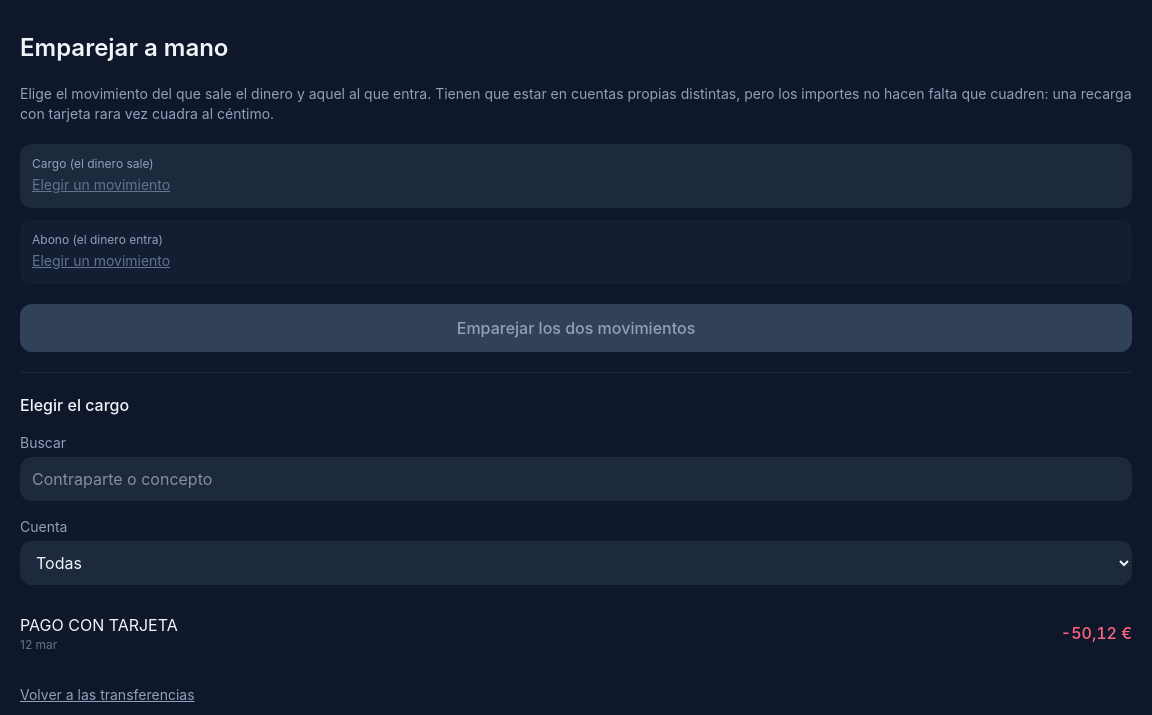
Test: PairTransferScreen › traduce el conflicto de la API en lugar de enseñar su texto a secas
The image size is (1152, 715).
Click the text "PAGO CON TARJETA": (99, 625) [20, 615, 178, 635]
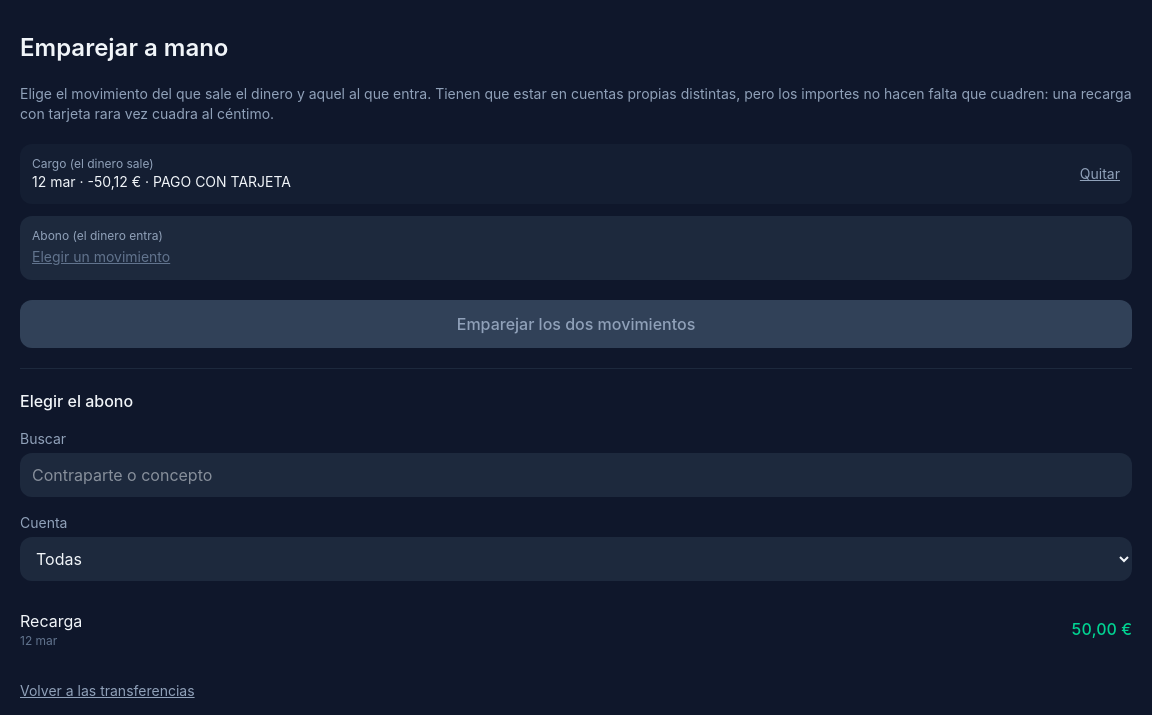
Click the text "Recarga": (51, 621) [20, 611, 82, 631]
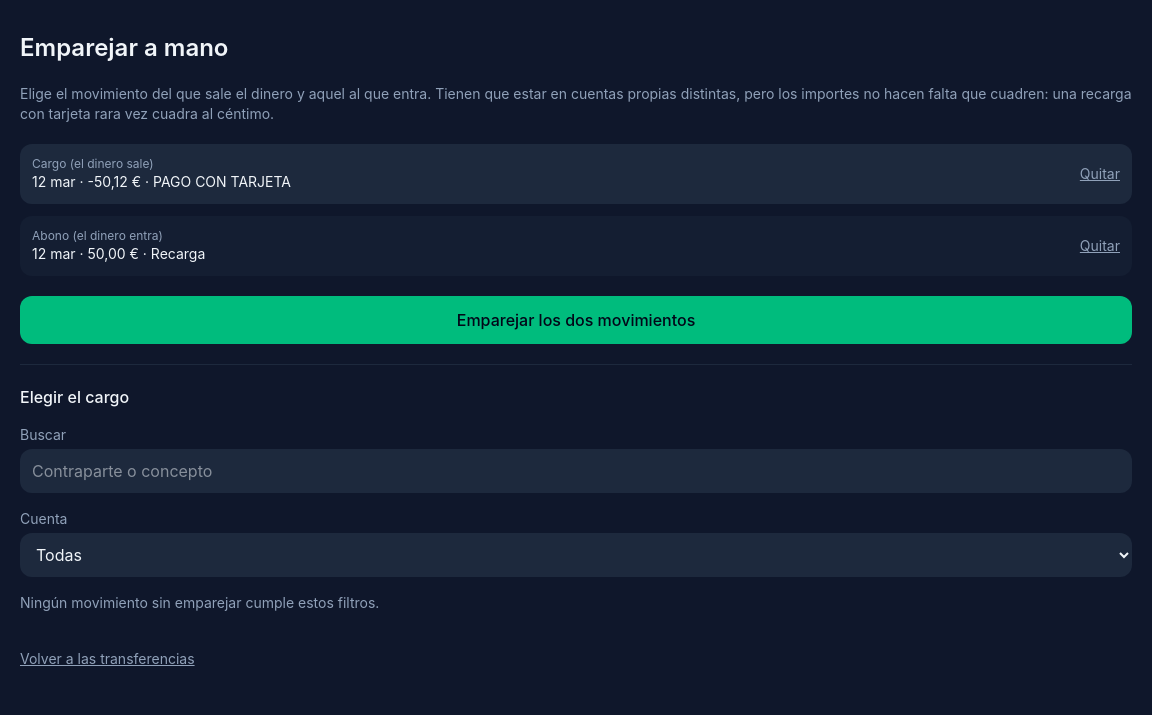
Click the button "Emparejar los dos movimientos": (576, 320) [20, 296, 1132, 344]
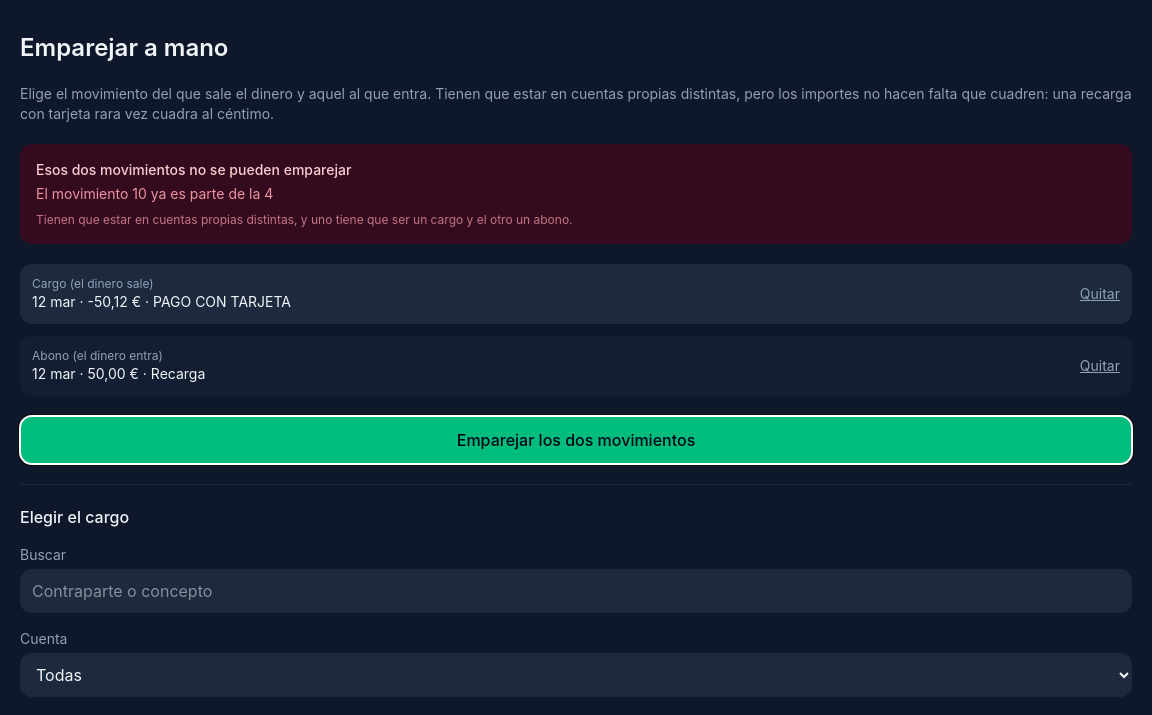
Check: the message shows "Esos dos movimientos no se pueden emparejar", box [36, 161, 351, 178]
Check: the message shows "El movimiento 10 ya es parte de la 4", box [36, 185, 273, 202]
